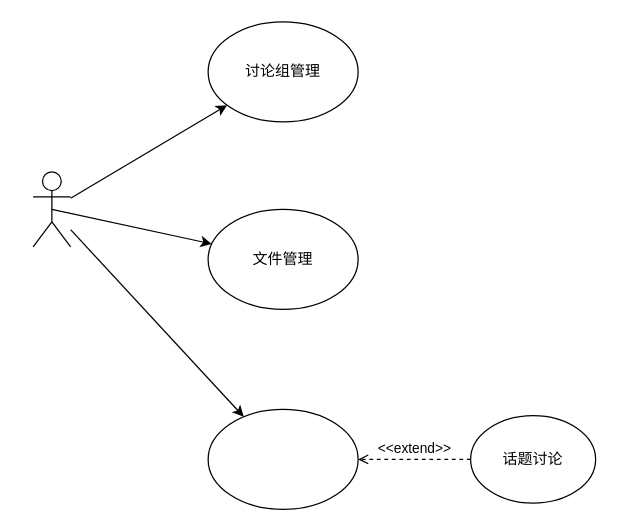
This 618x531 diagram has some shape labels left out. Each missing label, with the centre of its shape:
聊天: the point at 282,458
项目成员: the point at 51,209
